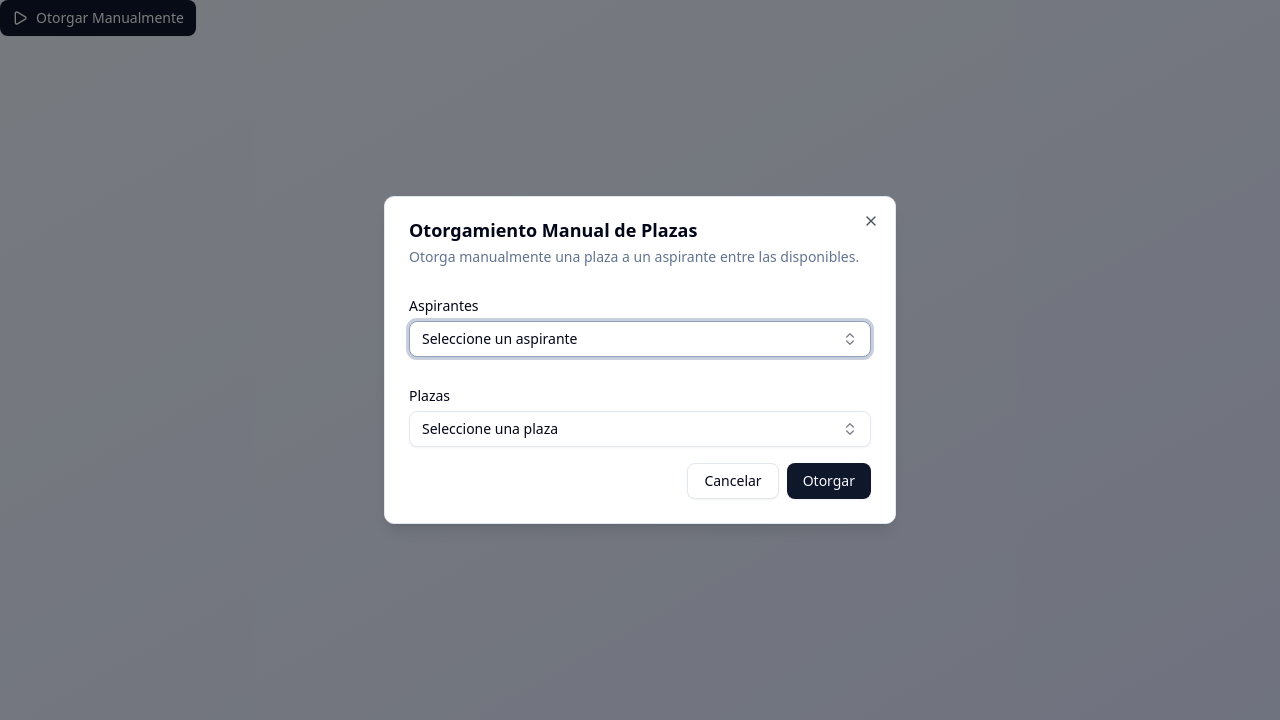
Test: AddManualAllocation › muestra aspirantes disponibles en el selector
Click the dropdown labelled "Seleccione un aspirante" at point(500, 338), box [409,321,871,357]
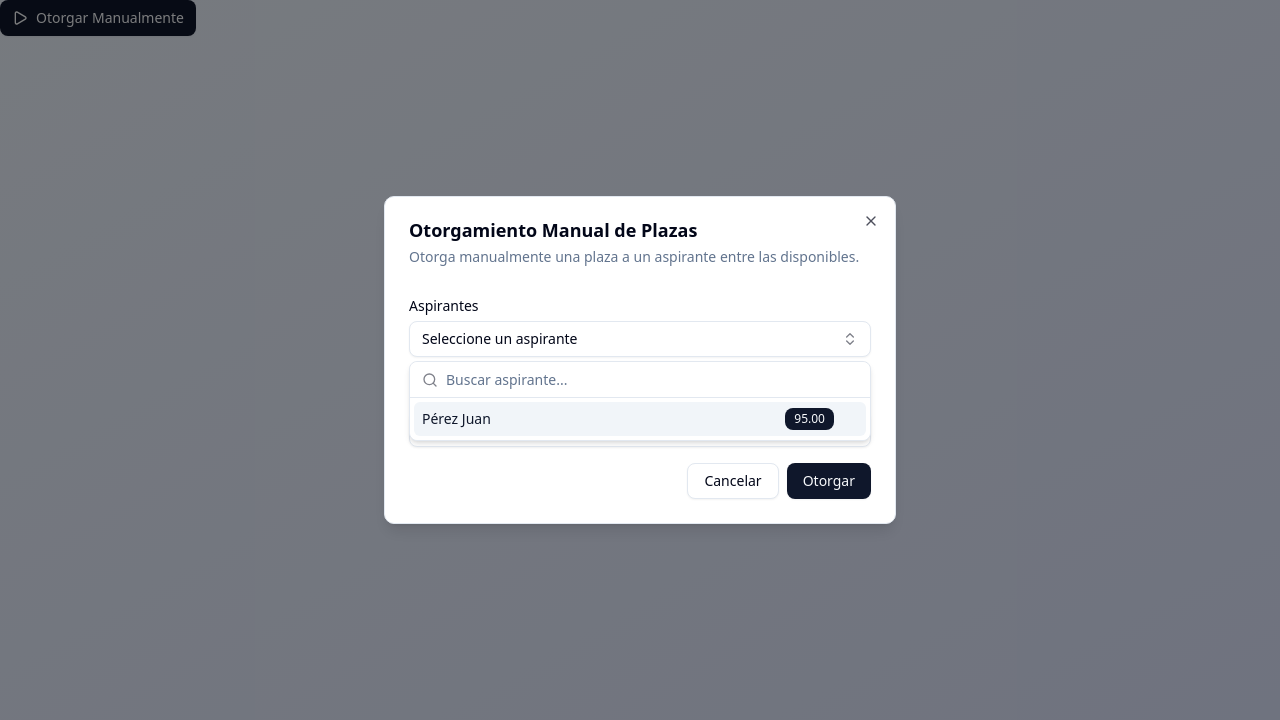
Expected: the text "Pérez Juan" is shown, [422,409,491,429]
